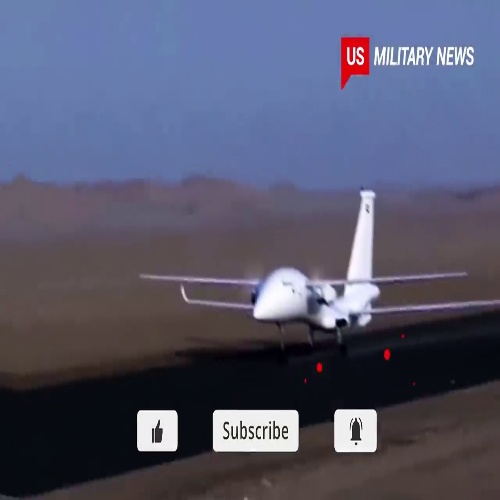uav: (140, 187, 498, 355)
